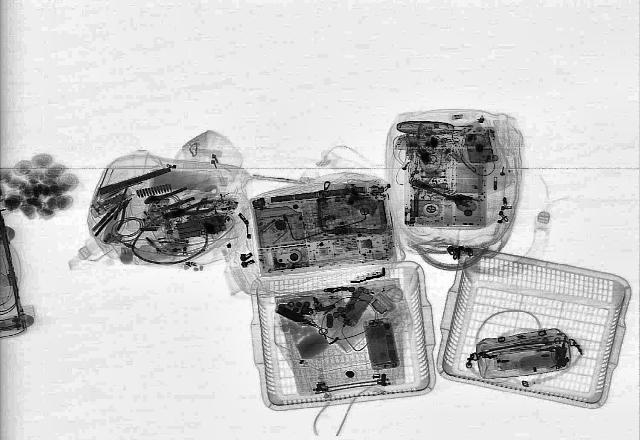Pliers: (96, 194, 138, 240), (159, 199, 217, 223)
Wrench: (140, 182, 188, 206)
